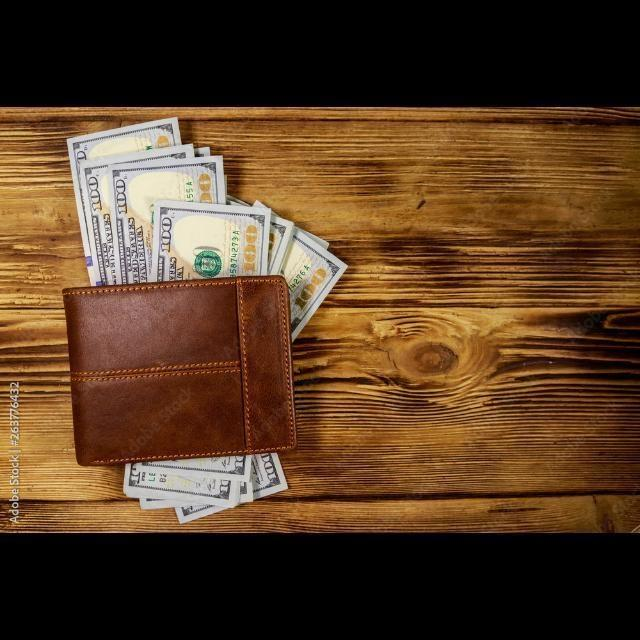Wallet: (51, 266, 323, 469)
